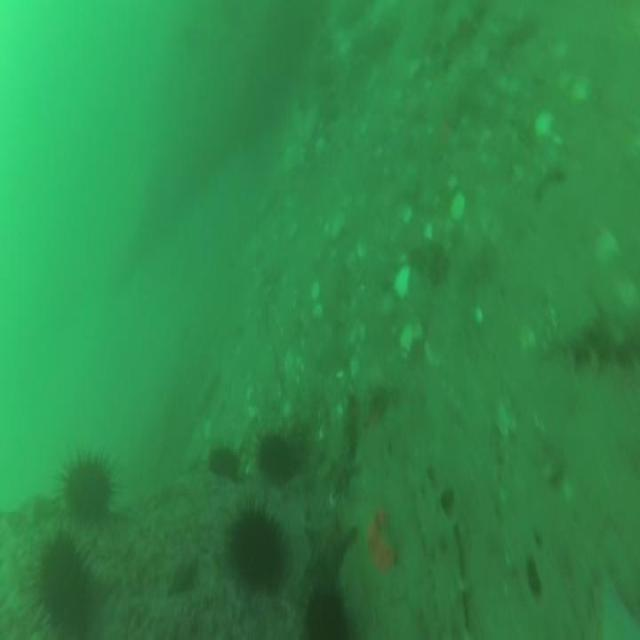echinus: (37, 540, 91, 638), (232, 510, 284, 588), (64, 463, 111, 518), (307, 588, 344, 640), (257, 436, 292, 485), (208, 446, 236, 482)
holothurian: (407, 466, 472, 640), (561, 310, 640, 368), (332, 397, 359, 499)
scallop: (302, 502, 356, 577)
